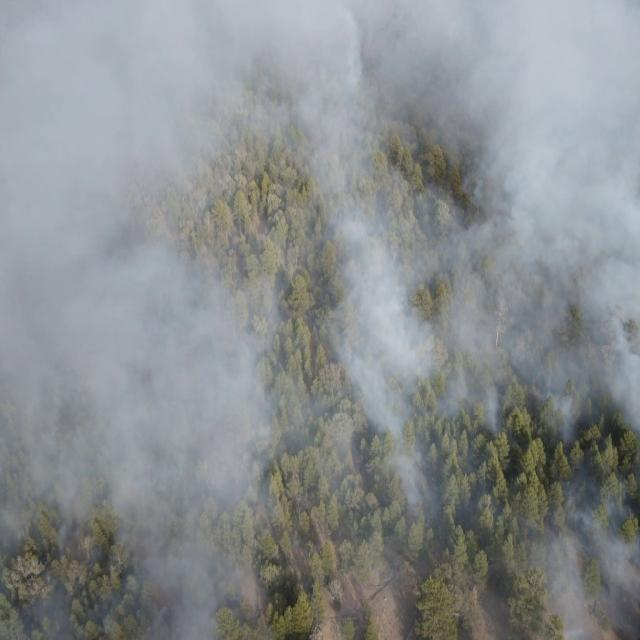smoke: (0, 140, 283, 640), (294, 132, 640, 516), (0, 0, 640, 141), (522, 514, 640, 640)
